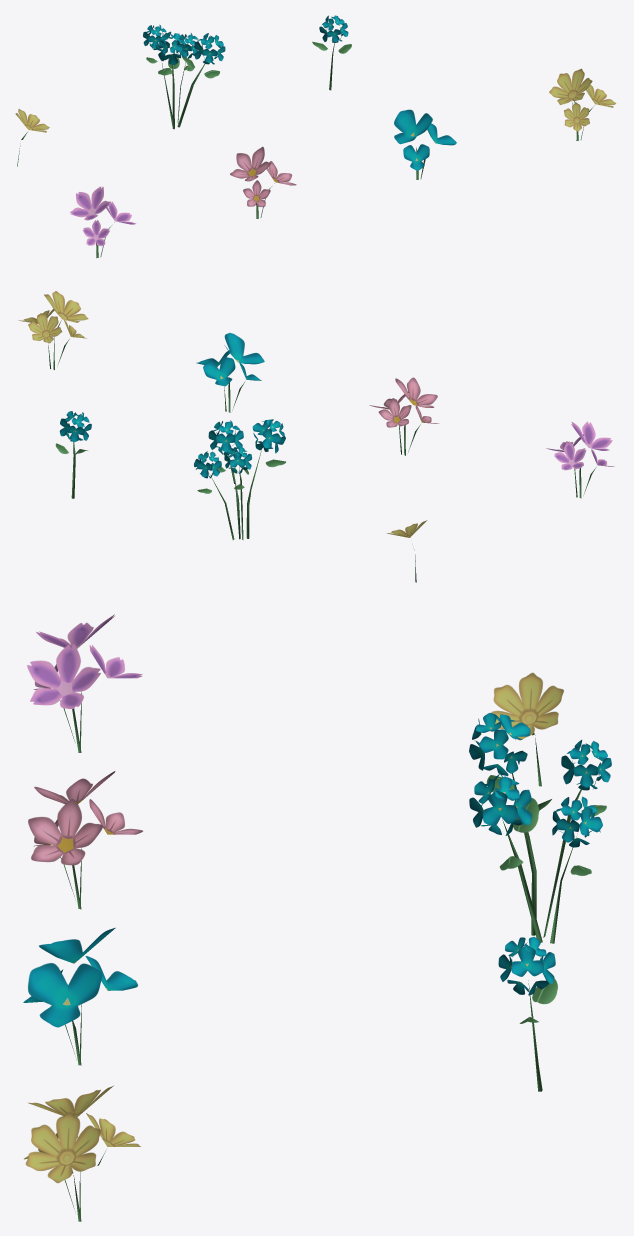
The model's file is flowers.glb.
3 renders of one model, top to bottom at view 1: azimuth 30°, elevation 25°; view 2: azimuth 150°, elevation 25°; view 3: azimuth 270°, elevation 25°, orthographic. The views are drawn at different scales.
Visible parts, largest first — view 1: Flower_5_Clump; view 2: Flower_5_Clump; view 3: Flower_5_Clump.
Boxes of the visible parts, x1=… form: Flower_5_Clump: x1=15, y1=15, x2=615, y2=258; Flower_5_Clump: x1=19, y1=291, x2=614, y2=582; Flower_5_Clump: x1=23, y1=614, x2=611, y2=1221.
Bounding box in the file's own units: 3.59 × 0.674 × 1.71.
Materials: 1 (1 with a texture image).
